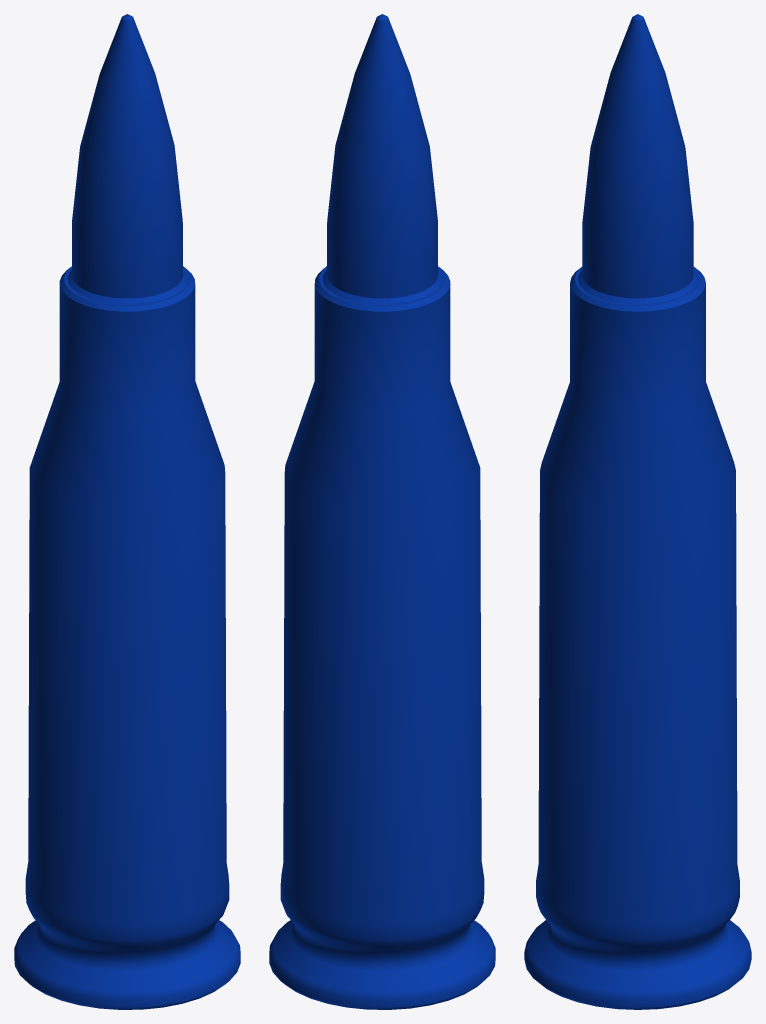
Rendered from bullet blue.fbx.
The picture shows the model from 3 angles, left to right: view 1: azimuth 30°, elevation 25°; view 2: azimuth 150°, elevation 25°; view 3: azimuth 270°, elevation 25°; orthographic projection.
Parts seen in each view (by area): view 1: Circle; view 2: Circle; view 3: Circle.
Part boxes in pixels (x1,y1,x2,y2): Circle: [14, 14, 240, 1009]; Circle: [269, 14, 495, 1009]; Circle: [524, 14, 751, 1009].
Size of the model in its own units: 2.41 by 11.12 by 2.41.
